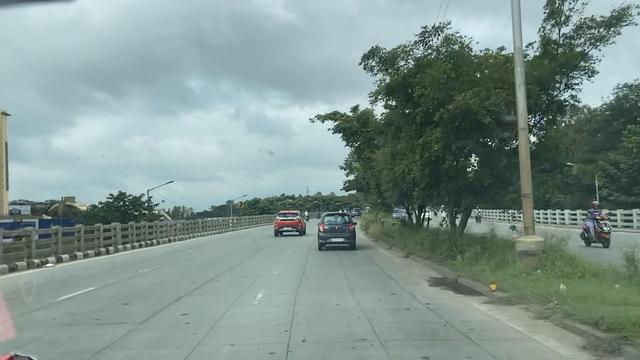LMV: (315, 213, 355, 246), (274, 211, 305, 230)
